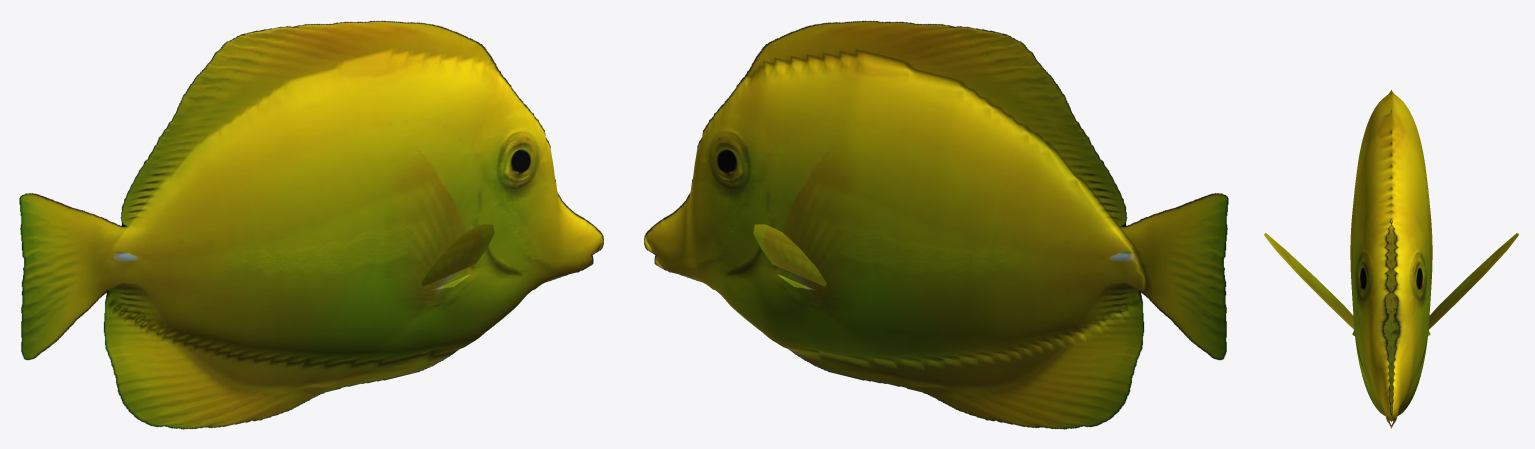
File: species-ytang-photo.glb
3 renders of one model, left to right at view 1: azimuth 30°, elevation 25°; view 2: azimuth 150°, elevation 25°; view 3: azimuth 270°, elevation 25°, orthographic. The views are drawn at different scales.
Visible parts, largest first — view 1: ytang; view 2: ytang; view 3: ytang.
Part boxes in pixels (box(x1,y1,x2,y2)): ytang: box(19, 20, 603, 429); ytang: box(644, 20, 1228, 429); ytang: box(1264, 90, 1518, 428).
Size of the model in its own units: 0.1428 by 0.0922 by 0.0643.
1 material, 1 textured.
